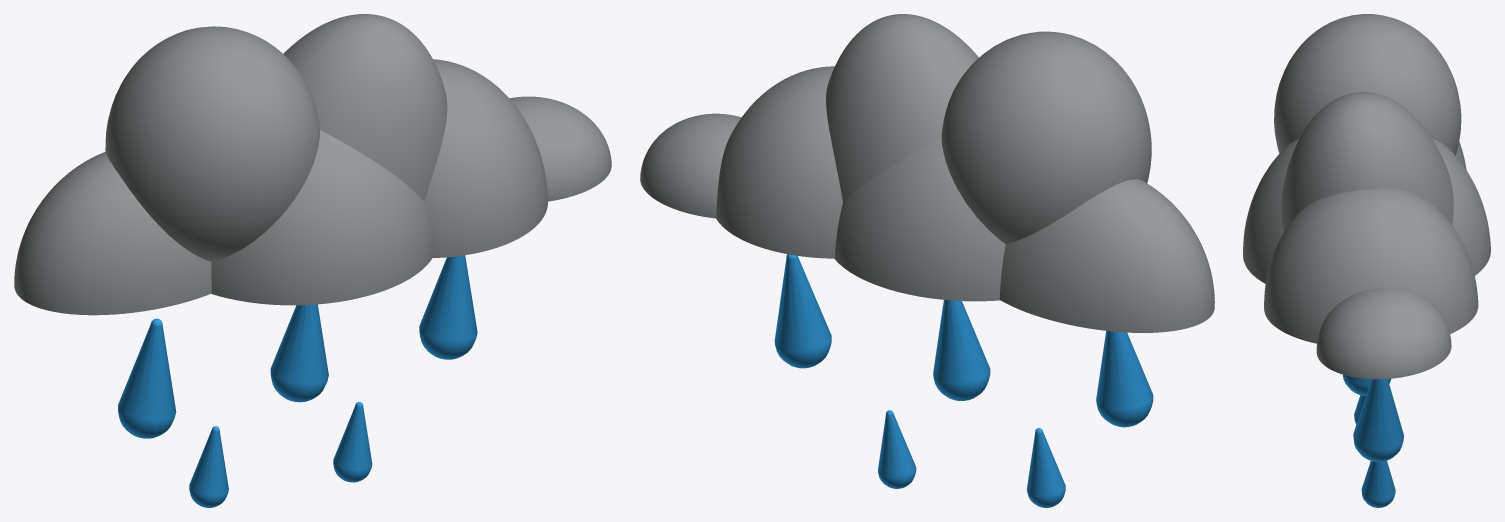
The model's file is Rainy.glb.
3 views of the same model, side by side, from view 1: azimuth 30°, elevation 25°; view 2: azimuth 150°, elevation 25°; view 3: azimuth 270°, elevation 25° (orthographic). The views are drawn at different scales.
Parts seen in each view (by area): view 1: mesh_id29, mesh_id49, mesh_id40, mesh_id51, mesh_id27, mesh_id53, mesh_id111, mesh_id117, mesh_id123, mesh_id104, mesh_id110; view 2: mesh_id29, mesh_id40, mesh_id49, mesh_id27, mesh_id51, mesh_id53, mesh_id117, mesh_id123, mesh_id111, mesh_id104, mesh_id110; view 3: mesh_id27, mesh_id29, mesh_id51, mesh_id53, mesh_id49, mesh_id117, mesh_id110, mesh_id123.
Boxes of the visible parts, box(x1,y1,x2,y2) form: mesh_id29: box(105, 26, 319, 261); mesh_id49: box(211, 130, 432, 305); mesh_id40: box(14, 152, 211, 315); mesh_id51: box(283, 14, 447, 201); mesh_id27: box(424, 59, 547, 257); mesh_id53: box(510, 96, 611, 201); mesh_id111: box(118, 318, 176, 438); mesh_id117: box(419, 255, 477, 359); mesh_id123: box(270, 304, 328, 402); mesh_id104: box(189, 426, 228, 507); mesh_id110: box(333, 402, 372, 482); mesh_id29: box(941, 31, 1151, 243); mesh_id40: box(999, 179, 1214, 332); mesh_id49: box(834, 138, 1005, 301); mesh_id27: box(716, 66, 842, 258); mesh_id51: box(826, 14, 978, 201); mesh_id53: box(640, 113, 741, 218); mesh_id117: box(774, 254, 831, 368); mesh_id123: box(933, 300, 990, 400); mesh_id111: box(1096, 331, 1153, 427); mesh_id104: box(1026, 428, 1065, 507); mesh_id110: box(878, 410, 916, 488); mesh_id27: box(1264, 188, 1478, 343); mesh_id29: box(1274, 14, 1461, 155); mesh_id51: box(1281, 92, 1453, 231); mesh_id53: box(1316, 287, 1451, 379); mesh_id49: box(1243, 138, 1490, 283); mesh_id117: box(1353, 379, 1403, 461); mesh_id110: box(1361, 460, 1395, 507); mesh_id123: box(1343, 374, 1391, 395).
Size of the model in its own units: 0.4056 by 0.3282 by 0.1745.
Materials: 11 (11 with a texture image).
